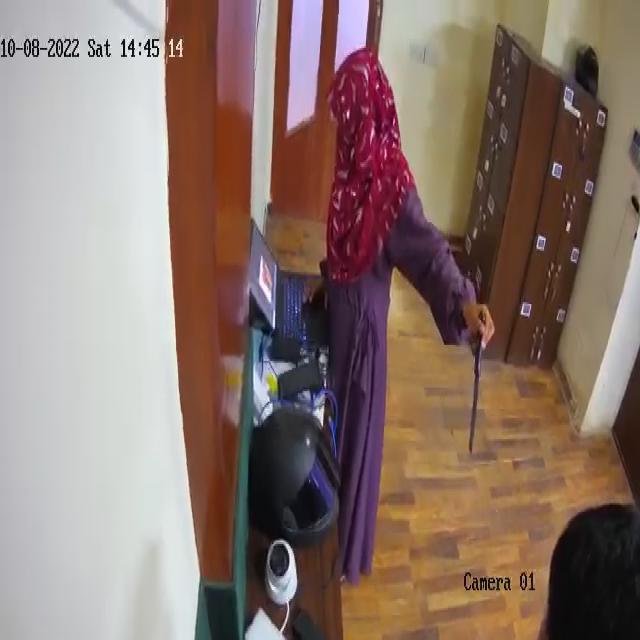Knife: (466, 310, 484, 454)
